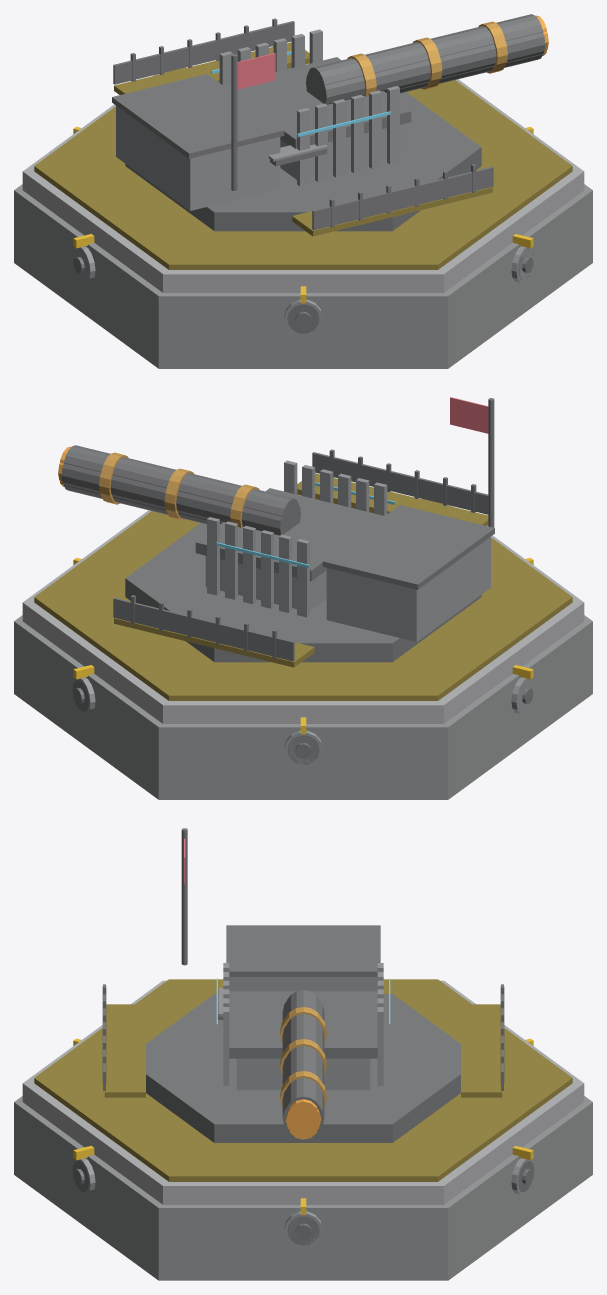
The model's file is phalanx_s3_100.glb.
3 views of the same model, one above another, from view 1: azimuth 30°, elevation 25°; view 2: azimuth 150°, elevation 25°; view 3: azimuth 270°, elevation 25° (orthographic).
Visible parts, largest first — view 1: PX_AmmoFrame; view 2: PX_AmmoFrame; view 3: PX_AmmoFrame.
Boxes of the visible parts, x1,y1,x2,y2 form: PX_AmmoFrame: (14, 14, 592, 368); PX_AmmoFrame: (14, 397, 592, 799); PX_AmmoFrame: (14, 828, 592, 1280).
Bounding box in the file's own units: 3.62 × 2.1 × 3.9.
